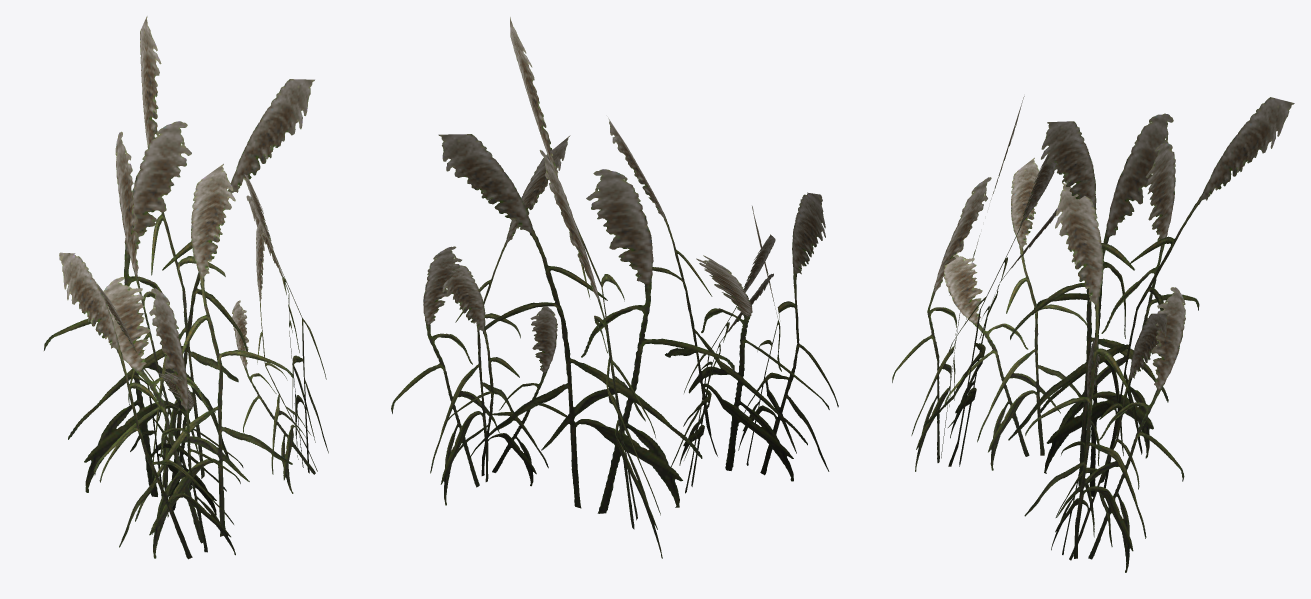
Rendered from ss_cao_2.FBX.
3 renders of one model, left to right at view 1: azimuth 30°, elevation 25°; view 2: azimuth 150°, elevation 25°; view 3: azimuth 270°, elevation 25°, orthographic. The views are drawn at different scales.
Parts seen in each view (by area): view 1: ss_cao_2; view 2: ss_cao_2; view 3: ss_cao_2.
Part boxes in pixels (x1=…): ss_cao_2: x1=44, y1=16, x2=328, y2=559; ss_cao_2: x1=391, y1=17, x2=838, y2=558; ss_cao_2: x1=892, y1=96, x2=1294, y2=572.
Size of the model in its own units: 144 by 179 by 152.
